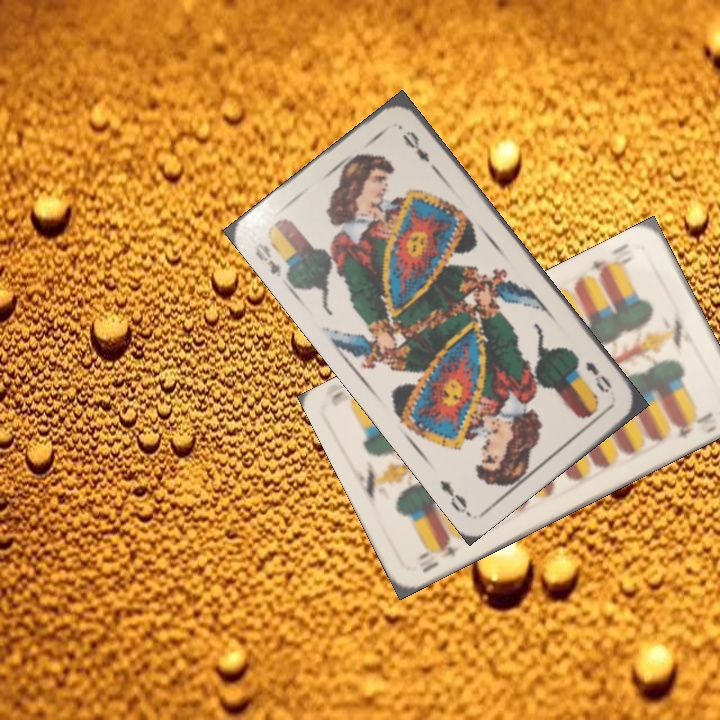E10: (586, 238, 637, 281), (414, 535, 462, 563)
EO: (250, 238, 284, 280), (581, 357, 615, 396)
